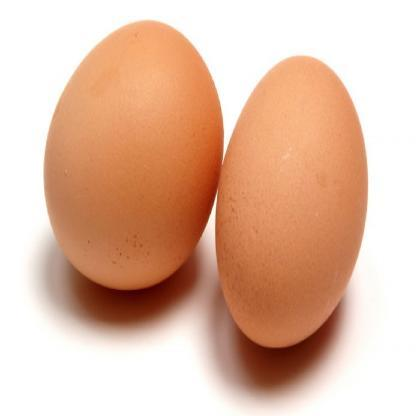egg: (42, 17, 224, 296), (214, 53, 370, 350)
